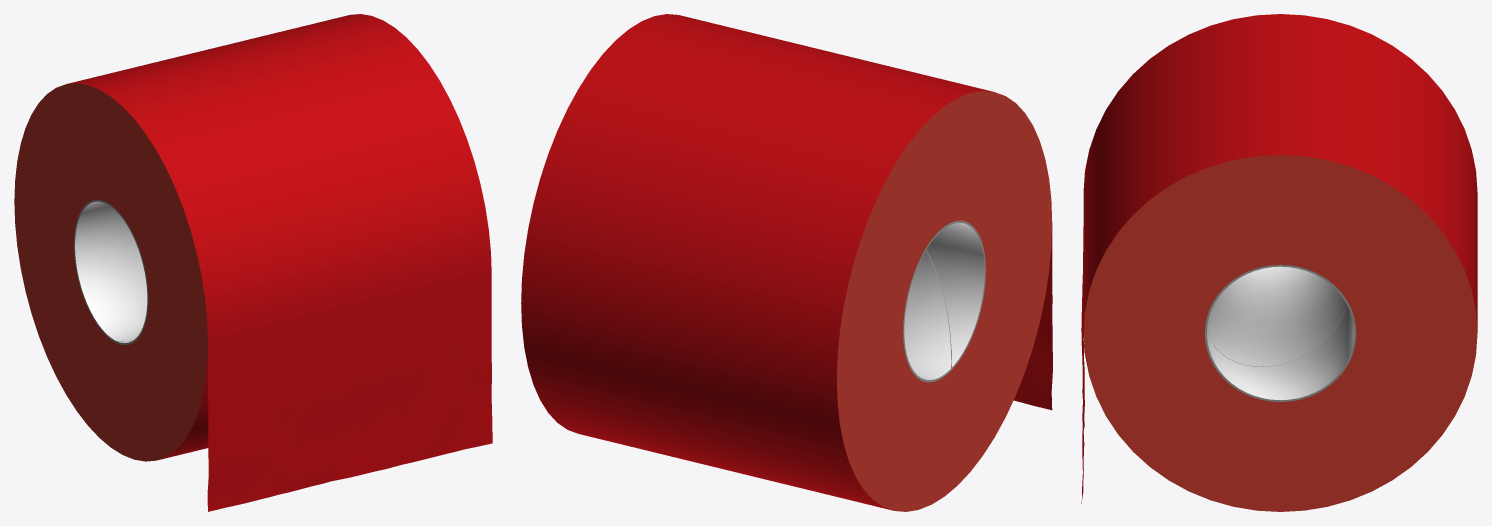
Rendered from 000118_V1_Tronco_Piramidal.glb.
The picture shows the model from 3 angles, left to right: view 1: azimuth 30°, elevation 25°; view 2: azimuth 150°, elevation 25°; view 3: azimuth 270°, elevation 25°; orthographic projection. The views are drawn at different scales.
Bounding box in the file's own units: 0.11 × 0.13 × 0.1307.
5 materials, 3 textured.
